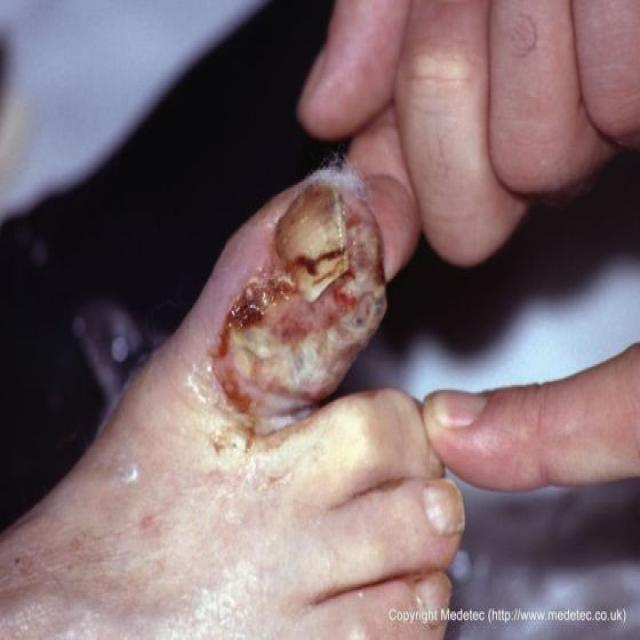wound: (207, 164, 387, 437)
